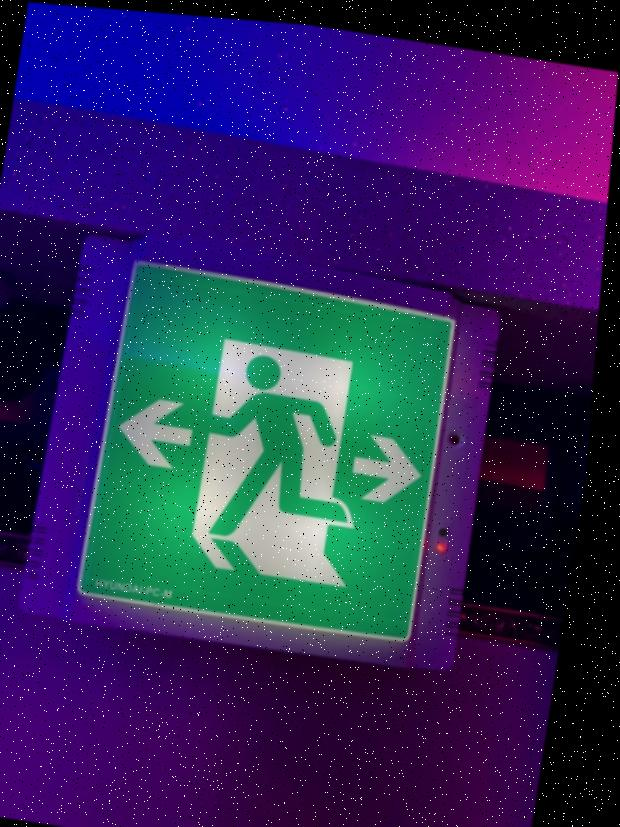emergency_exit: (75, 255, 471, 663)
